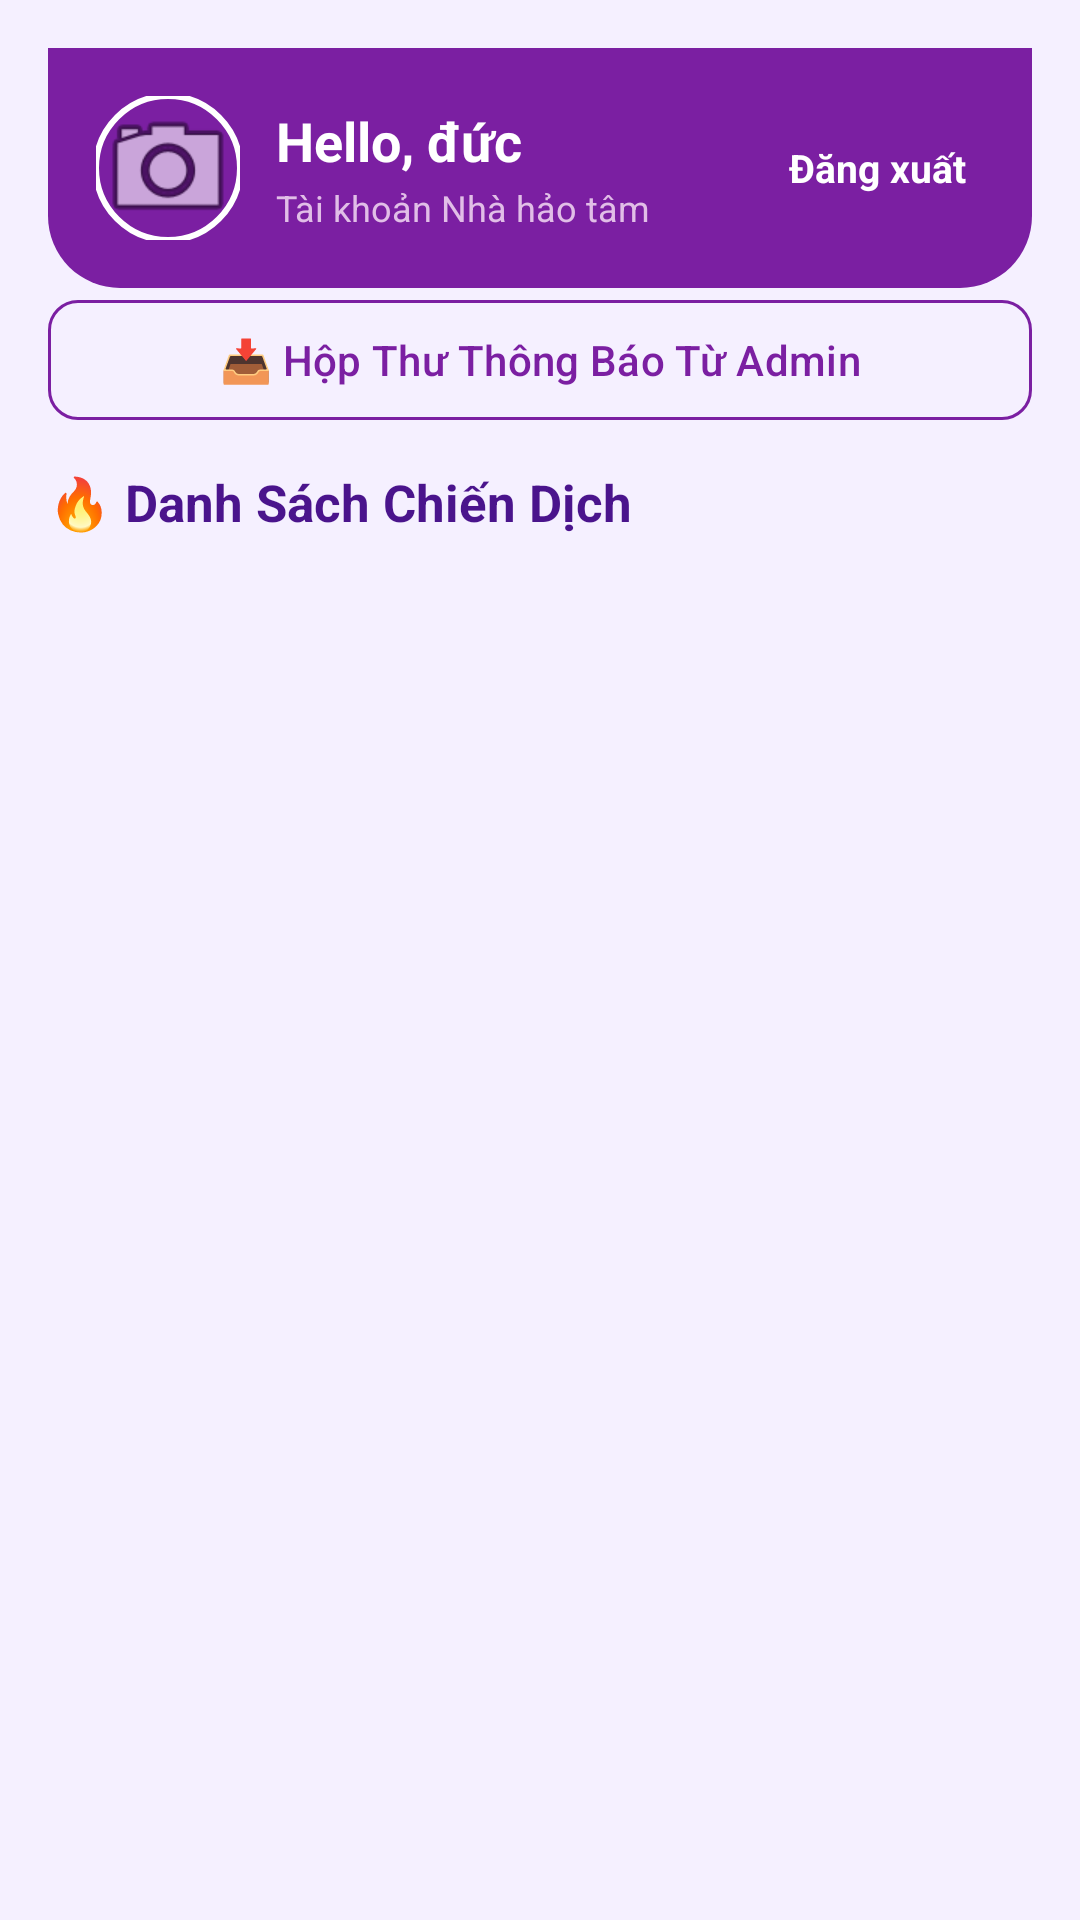

Named icons in this screenshot (1080px×1920px) and their centers, (x=x, y=y):
camera: (x=168, y=168)
